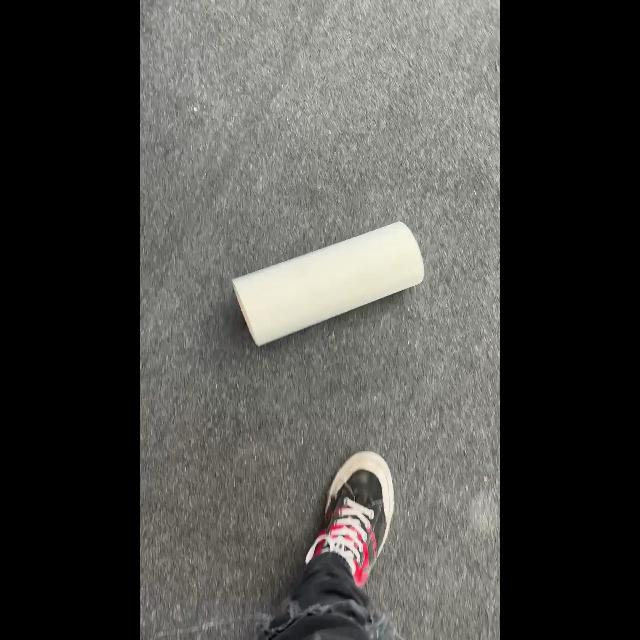CORAL: (232, 220, 424, 346)
